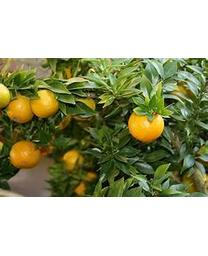lemon: (127, 110, 165, 145), (10, 140, 41, 168), (31, 89, 59, 119), (8, 94, 33, 123)
